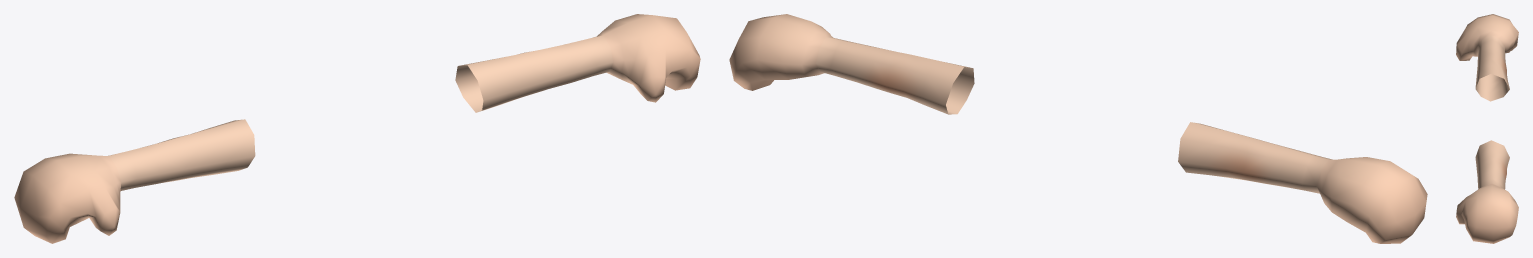
Rendered from Body_White_ArmA_1.fbx.
The picture shows the model from 3 angles, left to right: view 1: azimuth 30°, elevation 25°; view 2: azimuth 150°, elevation 25°; view 3: azimuth 270°, elevation 25°; orthographic projection. The views are drawn at different scales.
Visible parts, largest first — view 1: Body_White_ArmA_1; view 2: Body_White_ArmA_1; view 3: Body_White_ArmA_1.
Part boxes in pixels (x1,y1,x2,y2): Body_White_ArmA_1: (14, 14, 700, 243); Body_White_ArmA_1: (729, 14, 1427, 243); Body_White_ArmA_1: (1456, 14, 1518, 243).
Size of the model in its own units: 130 by 13.15 by 17.22.
